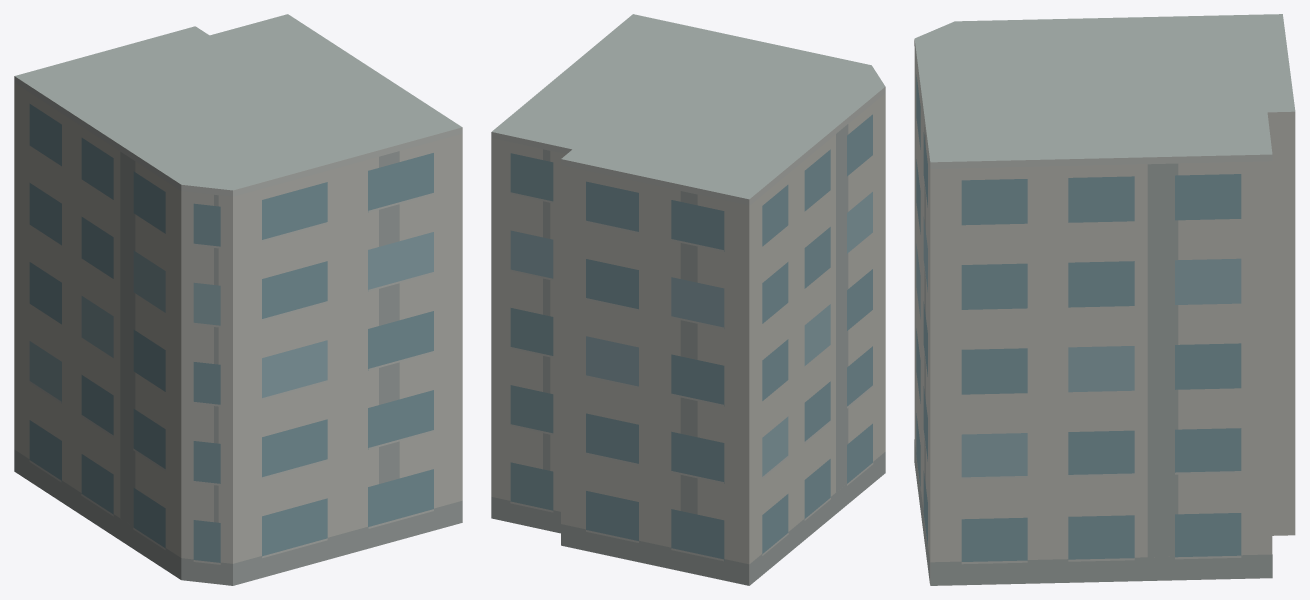
File: survey-upis-33027012.glb
The picture shows the model from 3 angles, left to right: view 1: azimuth 30°, elevation 25°; view 2: azimuth 150°, elevation 25°; view 3: azimuth 270°, elevation 25°; orthographic projection. The views are drawn at different scales.
Parts seen in each view (by area): view 1: survey-upis-33027012.tmp; view 2: survey-upis-33027012.tmp; view 3: survey-upis-33027012.tmp.
Boxes of the visible parts, bbox=[...] form: survey-upis-33027012.tmp: bbox=[14, 14, 462, 585]; survey-upis-33027012.tmp: bbox=[491, 14, 885, 585]; survey-upis-33027012.tmp: bbox=[914, 14, 1295, 585].
Size of the model in its own units: 11.27 by 15 by 12.24.
